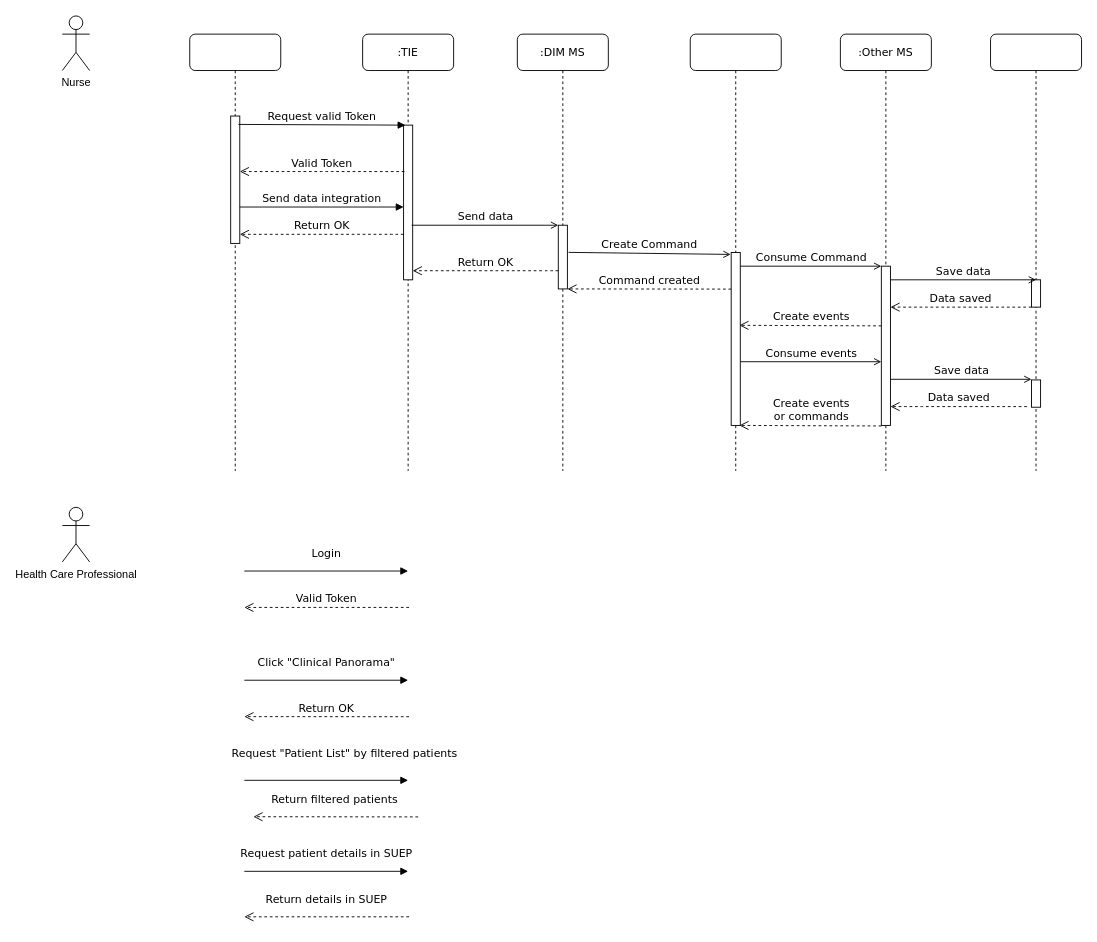
Some shapes in this 1097 by 942 pixel diagram are drawn without their labels. The centre of each missing label's shape, as x and y in pixels:
":IBE" belongs at point 235,252.
":Kafka" belongs at point 735,252.
":Oracle DB" belongs at point 1036,252.
